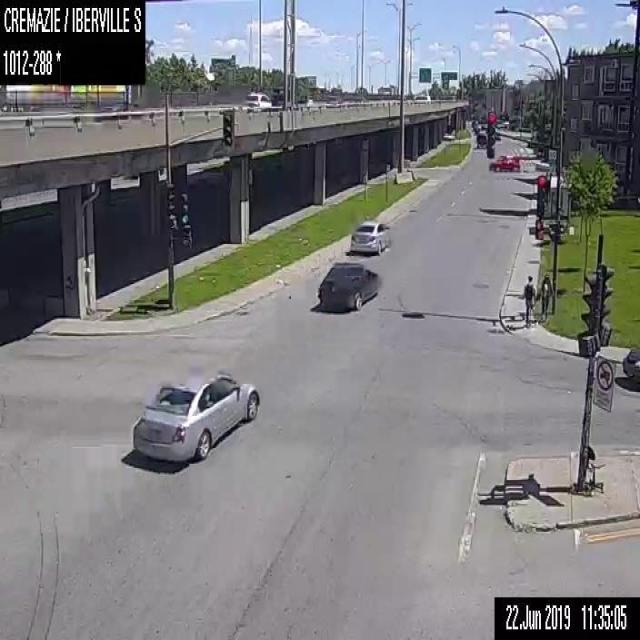pedestrian: (539, 270, 552, 318), (524, 272, 536, 323)
vehicle: (131, 368, 259, 461), (317, 259, 382, 308), (348, 217, 391, 256), (621, 347, 639, 382), (490, 150, 521, 170), (245, 90, 271, 110), (472, 119, 487, 132), (326, 94, 342, 106), (476, 130, 486, 148)
